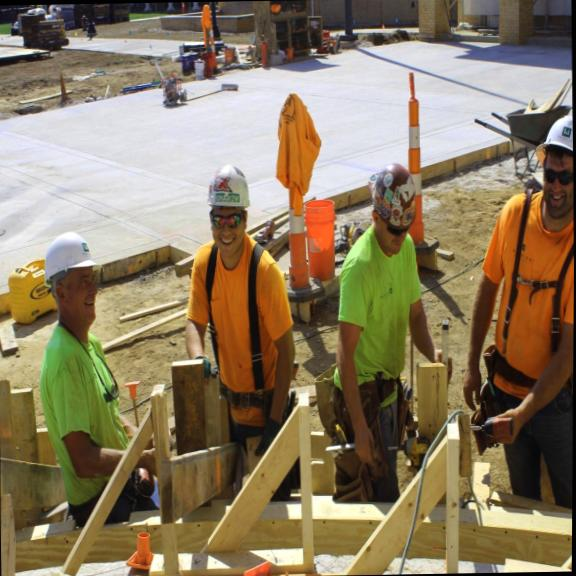no_safety_vest: (460, 200, 575, 426), (324, 233, 428, 444), (197, 228, 281, 419), (38, 332, 118, 504)
